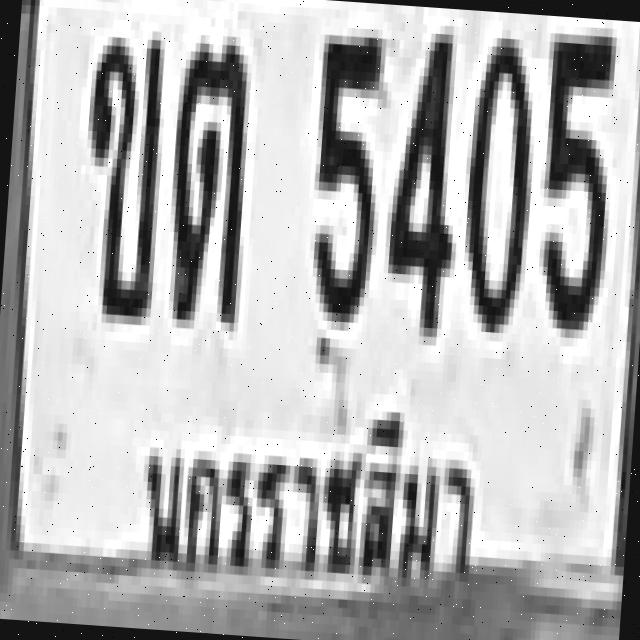0: (455, 27, 537, 326)
11KhorKhai: (76, 26, 166, 316)
30TorTao: (158, 32, 254, 322)
4: (380, 22, 462, 328)
5: (530, 24, 617, 330), (300, 25, 382, 323)
NakhonRatchasima: (124, 390, 488, 608)
